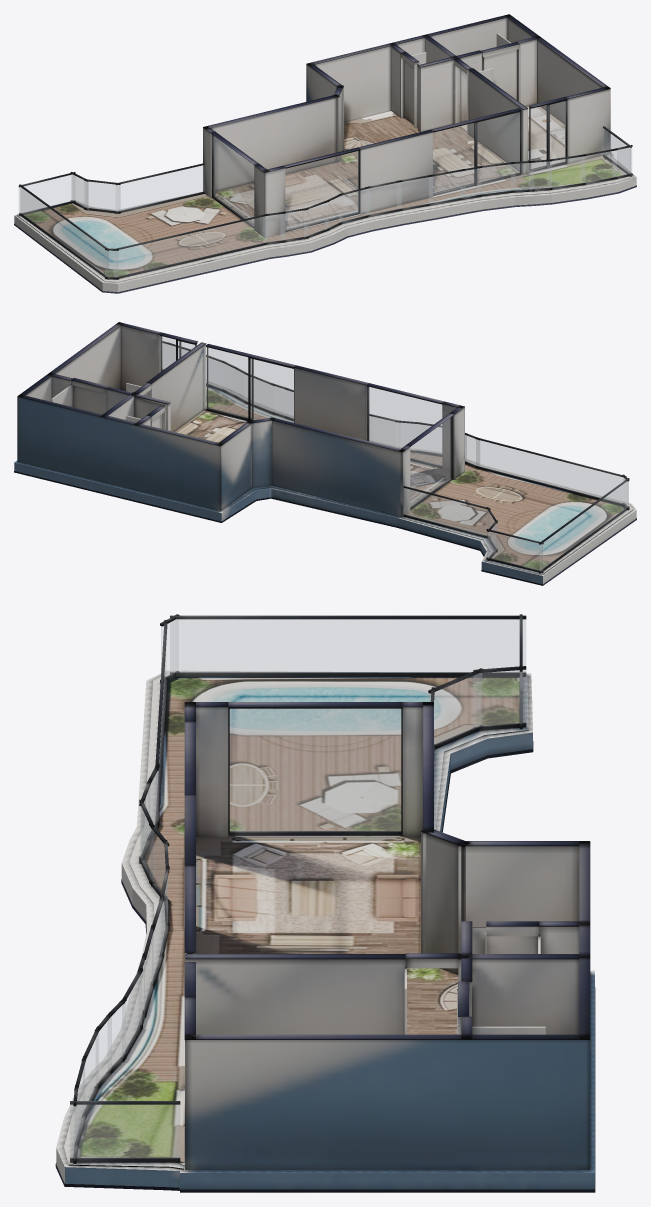
The picture shows the model from 3 angles, top to bottom: view 1: azimuth 30°, elevation 25°; view 2: azimuth 150°, elevation 25°; view 3: azimuth 270°, elevation 25°; orthographic projection. The views are drawn at different scales.
Visible parts, largest first — view 1: plan, glass2_m, railg4_m, glass1_m, glass0_m, railg6_m, railg3_m, glass3_m, railg0_m, railg10_m, railg13_m, railg2_m (+15 smaller); view 2: plan, glass2_m, glass1_m, railg4_m, glass0_m, railg6_m, railg3_m, railg0_m, glass3_m, railg17_m, railg13_m, railg21_m; view 3: plan, glass0_m, railg6_m, railg5_m, railg1_m, railg2_m, railg13_m, railg12_m, railg11_m.
Part boxes in pixels (<box>): plan: <box>14,14,636,293</box>; glass2_m: <box>433,112,519,193</box>; railg4_m: <box>114,216,267,277</box>; glass1_m: <box>285,151,358,229</box>; glass0_m: <box>213,136,253,225</box>; railg6_m: <box>20,187,108,277</box>; railg3_m: <box>116,165,203,211</box>; glass3_m: <box>530,101,565,168</box>; railg0_m: <box>19,174,74,213</box>; railg10_m: <box>547,156,585,188</box>; railg13_m: <box>477,164,515,194</box>; railg2_m: <box>84,181,120,211</box>; plan: <box>14,322,636,585</box>; glass2_m: <box>207,347,293,422</box>; glass1_m: <box>368,387,441,465</box>; railg4_m: <box>476,439,625,503</box>; glass0_m: <box>410,417,451,506</box>; railg6_m: <box>540,481,628,570</box>; railg3_m: <box>404,488,489,535</box>; railg0_m: <box>487,532,542,570</box>; glass3_m: <box>161,336,194,371</box>; railg17_m: <box>373,417,399,447</box>; railg13_m: <box>245,375,274,412</box>; railg21_m: <box>465,435,479,466</box>; plan: <box>55,614,595,1192</box>; glass0_m: <box>230,709,400,831</box>; railg6_m: <box>170,619,525,672</box>; railg5_m: <box>70,1105,179,1158</box>; railg1_m: <box>474,670,525,726</box>; railg2_m: <box>429,673,481,745</box>; railg13_m: <box>122,973,141,1057</box>; railg12_m: <box>108,1002,125,1071</box>; railg11_m: <box>96,1016,111,1086</box>.
Size of the model in its own units: 18.67 by 2.62 by 8.47.
Materials: 2 (1 with a texture image).
